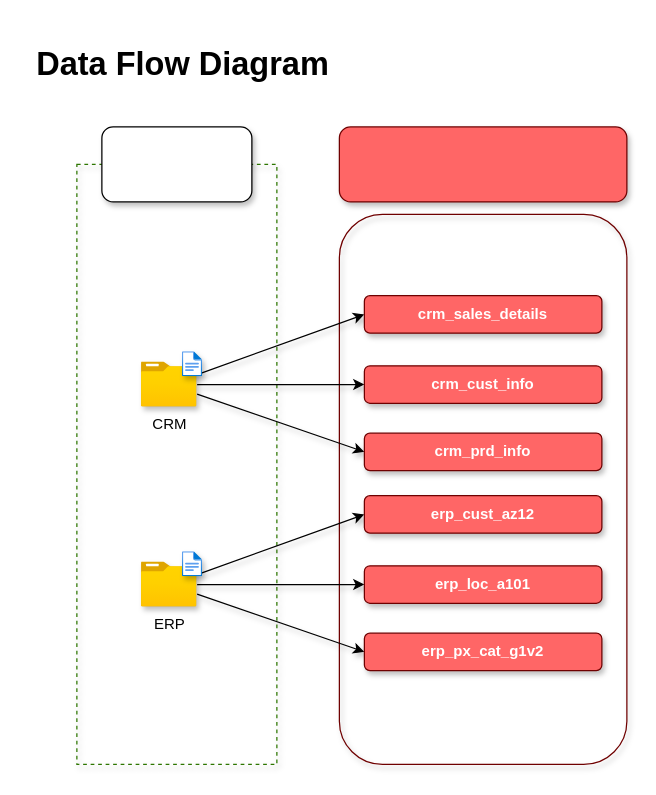
This 656x795 diagram has some shape labels left out. Each missing label, with the centre of its shape:
"BRONZE" goes at (483,166).
"SOURCES" goes at (177,166).
